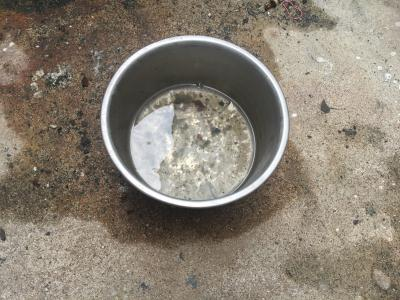bowl: (97, 34, 292, 217)
